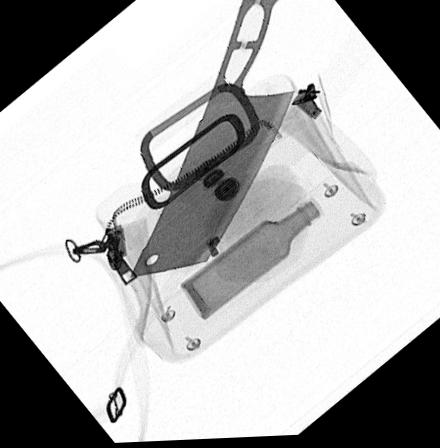Knife: (128, 0, 298, 279)
